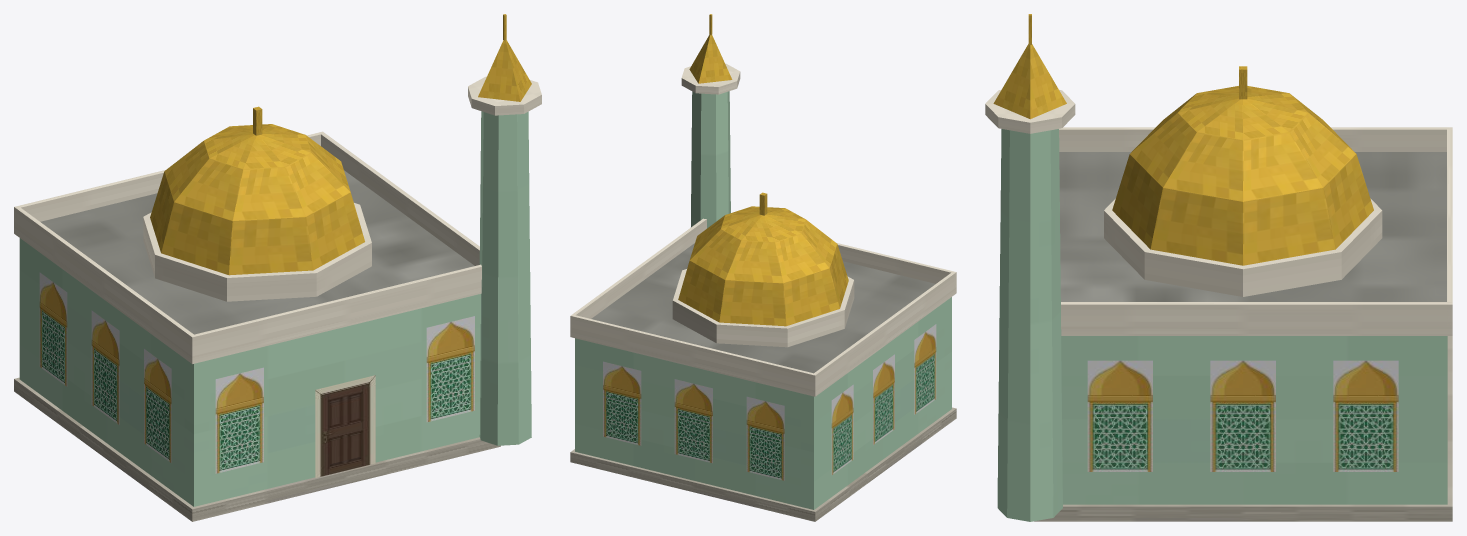
Rendered from mosque-mint-far.glb.
3 views of the same model, side by side, from view 1: azimuth 30°, elevation 25°; view 2: azimuth 150°, elevation 25°; view 3: azimuth 270°, elevation 25° (orthographic). The views are drawn at different scales.
Parts seen in each view (by area): view 1: mosque-mint-far; view 2: mosque-mint-far; view 3: mosque-mint-far.
Boxes of the visible parts, <box> form: mosque-mint-far: <box>14,14,541,521</box>; mosque-mint-far: <box>570,14,956,521</box>; mosque-mint-far: <box>985,14,1452,521</box>.
Bounding box in the file's own units: 11.42 × 13.7 × 11.42.
Materials: 1 (1 with a texture image).
